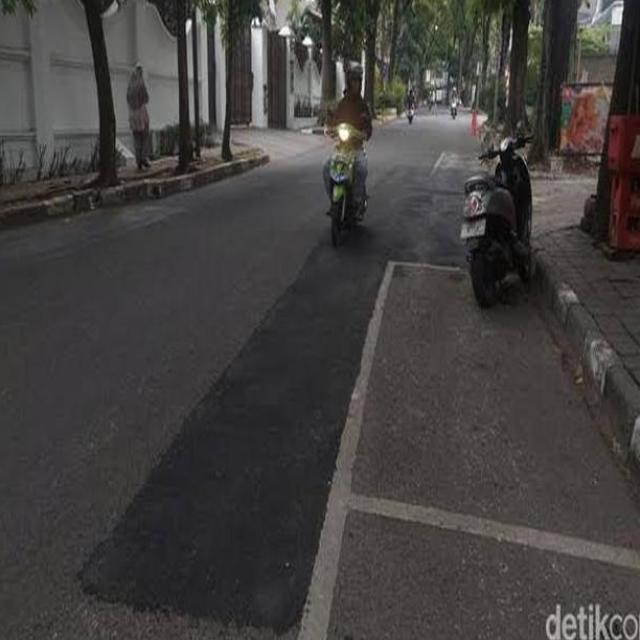Sambungan: (73, 165, 475, 630)
